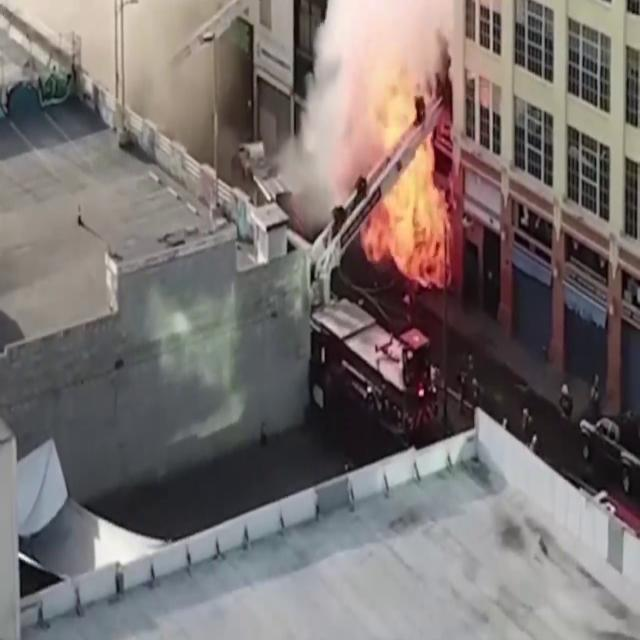Smoke: (271, 0, 457, 212), (98, 0, 246, 165), (227, 144, 242, 157)
